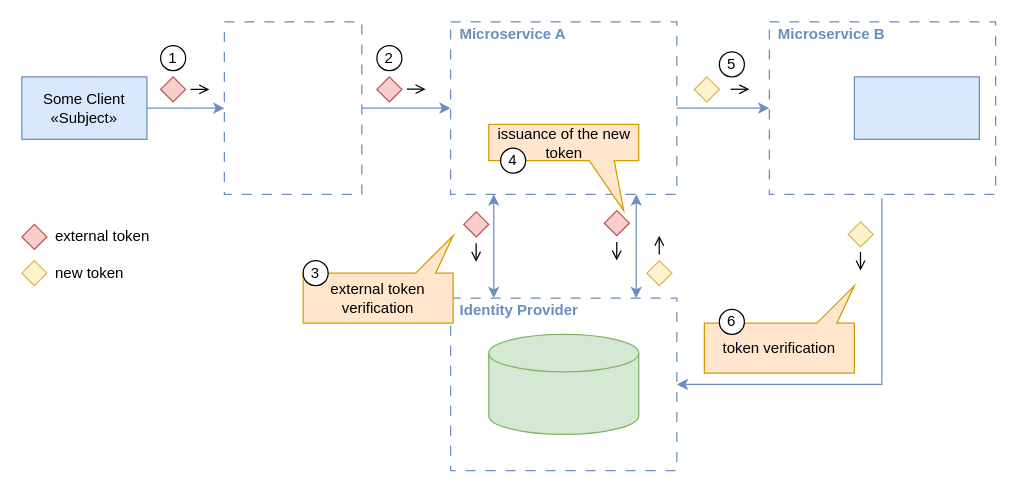
This 1018x493 diagram has some shape labels left out. The centre of each missing label's shape, as x and y in pixels:
"Edge-Proxy" belongs at point (292, 107).
"Identity Store" belongs at point (563, 383).
"Some Entity «Object»" belongs at point (916, 107).
